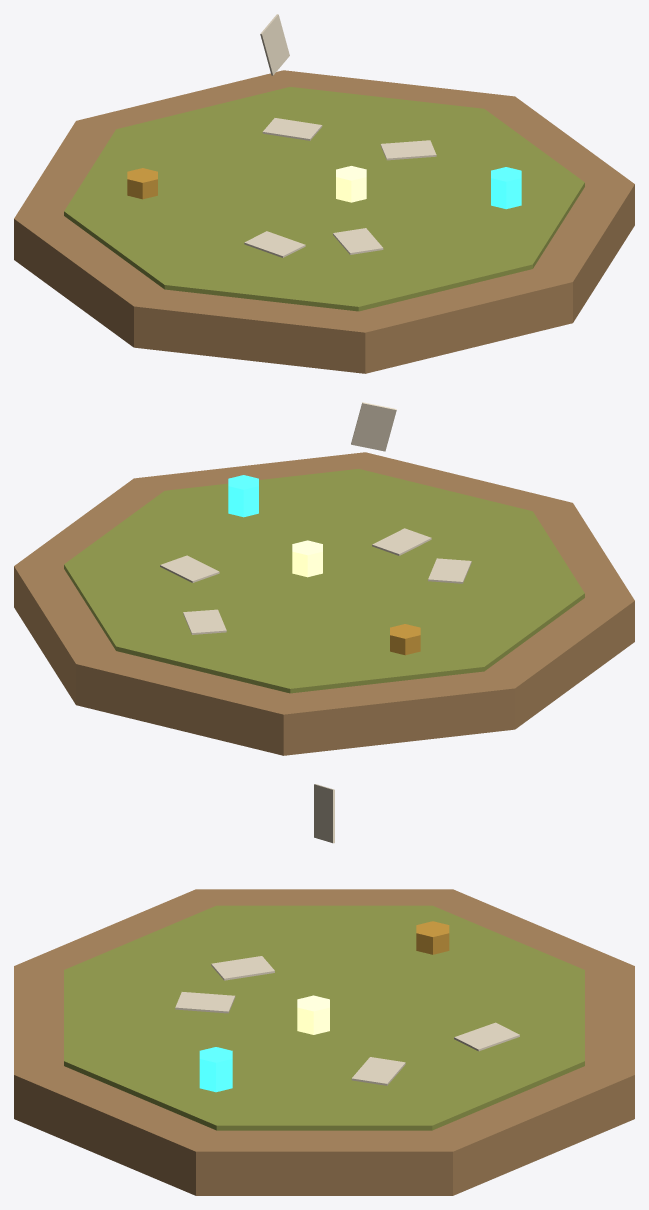
File: Prop_HoverPokerTable.fbx
3 renders of one model, top to bottom at view 1: azimuth 30°, elevation 25°; view 2: azimuth 150°, elevation 25°; view 3: azimuth 270°, elevation 25°, orthographic. The views are drawn at different scales.
Parts seen in each view (by area): view 1: Prop_HoverPokerTable_Body, Prop_HoverPokerTable_Card; view 2: Prop_HoverPokerTable_Body, Prop_HoverPokerTable_Card; view 3: Prop_HoverPokerTable_Body, Prop_HoverPokerTable_Card.
Part boxes in pixels (x1=…): Prop_HoverPokerTable_Body: x1=14, y1=70, x2=634, y2=373; Prop_HoverPokerTable_Card: x1=260, y1=14, x2=289, y2=75; Prop_HoverPokerTable_Body: x1=14, y1=452, x2=634, y2=755; Prop_HoverPokerTable_Card: x1=351, y1=402, x2=396, y2=451; Prop_HoverPokerTable_Body: x1=14, y1=889, x2=634, y2=1195; Prop_HoverPokerTable_Card: x1=314, y1=784, x2=334, y2=843.
Size of the model in its own units: 1.15 by 0.6747 by 1.15.
